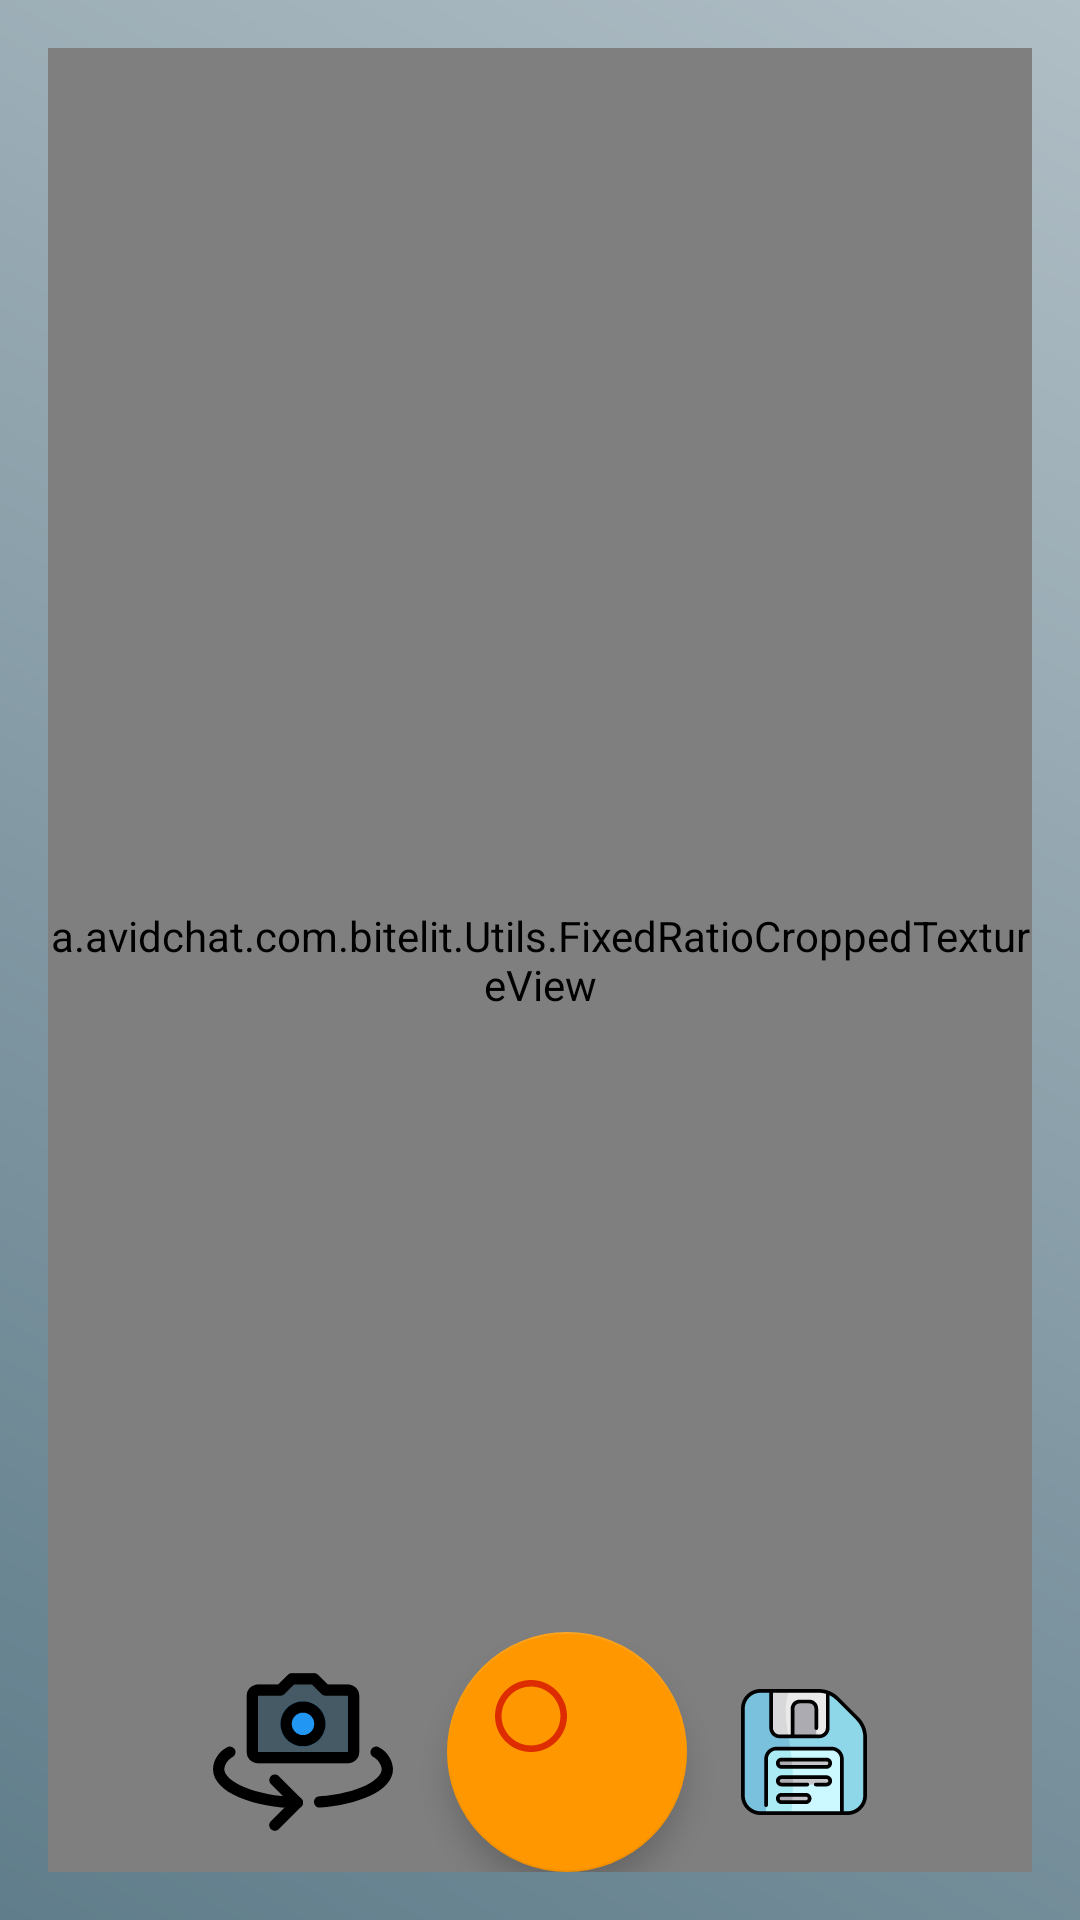

Where icons sit on this 1080px x 1920px app screen, as (x1, y1, x2, y2):
camera switch: (213, 1673, 393, 1831)
record: (447, 1632, 687, 1872)
save: (741, 1689, 867, 1815)
